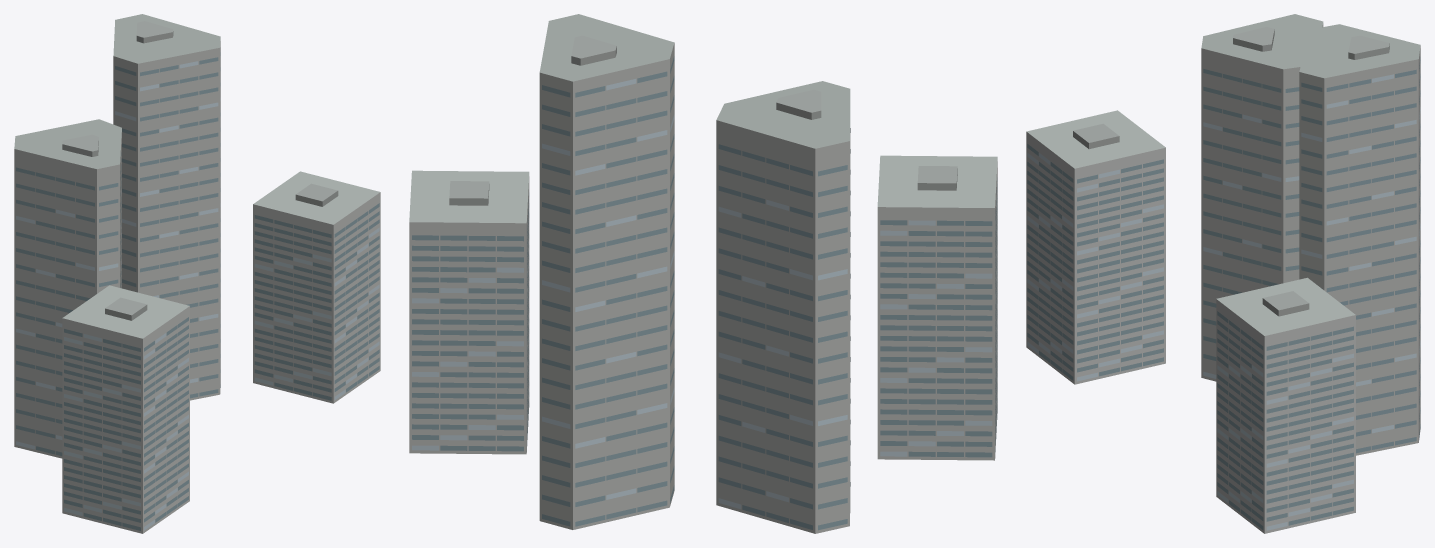
Rendered from apt-a13770609.glb.
The picture shows the model from 3 angles, left to right: view 1: azimuth 30°, elevation 25°; view 2: azimuth 150°, elevation 25°; view 3: azimuth 270°, elevation 25°; orthographic projection. The views are drawn at different scales.
Visible parts, largest first — view 1: apt-a13770609; view 2: apt-a13770609; view 3: apt-a13770609.
Part boxes in pixels (x1,y1,x2,y2): apt-a13770609: (14,14,380,533); apt-a13770609: (409,14,997,533); apt-a13770609: (1026,14,1420,533).
Size of the model in its own units: 172 by 151 by 138.
